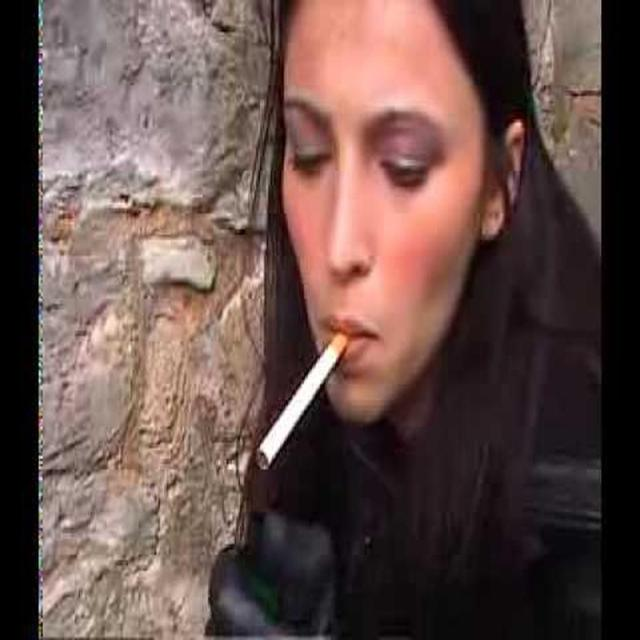smoking: (255, 0, 550, 472)
